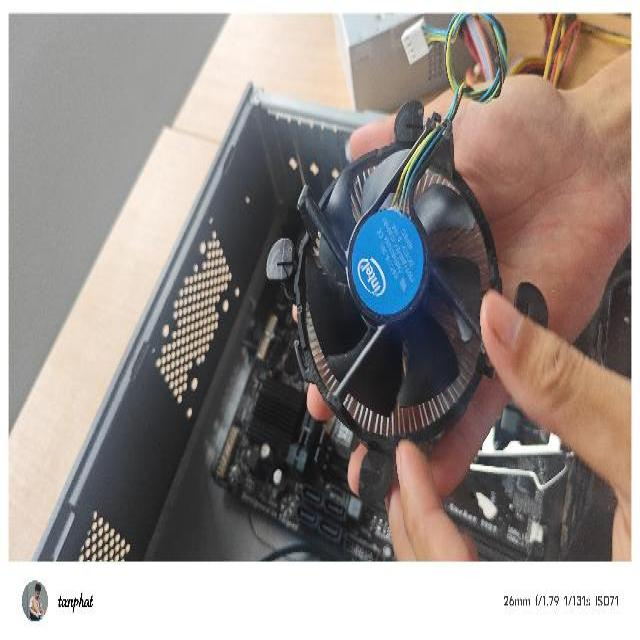CPU_Fan: (266, 95, 550, 506)
